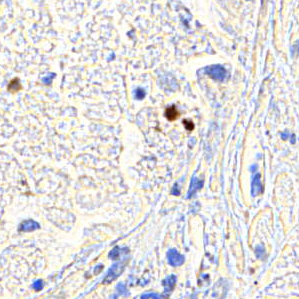Lymphocyte: (164, 103, 182, 122)
